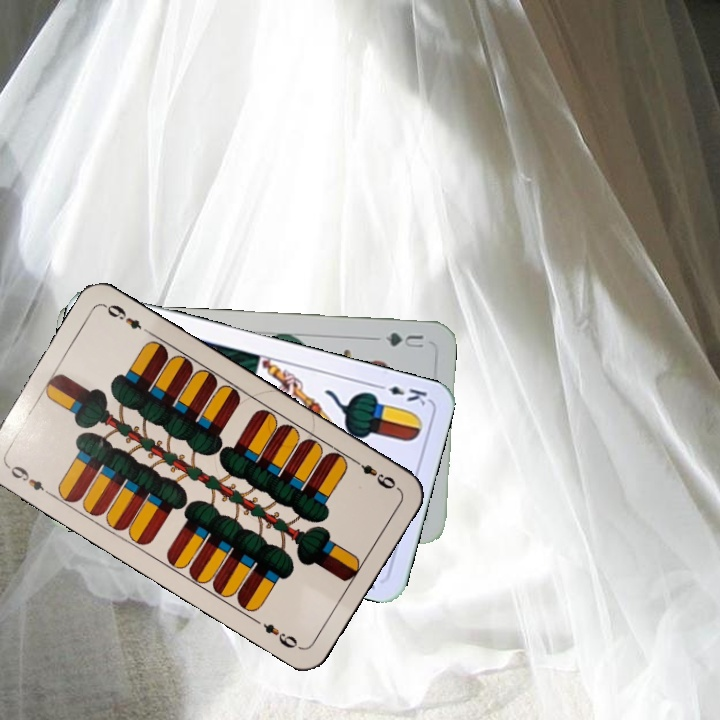E9: (2, 461, 55, 499), (348, 454, 399, 492)
EK: (371, 378, 430, 408)
GU: (381, 328, 426, 352)
